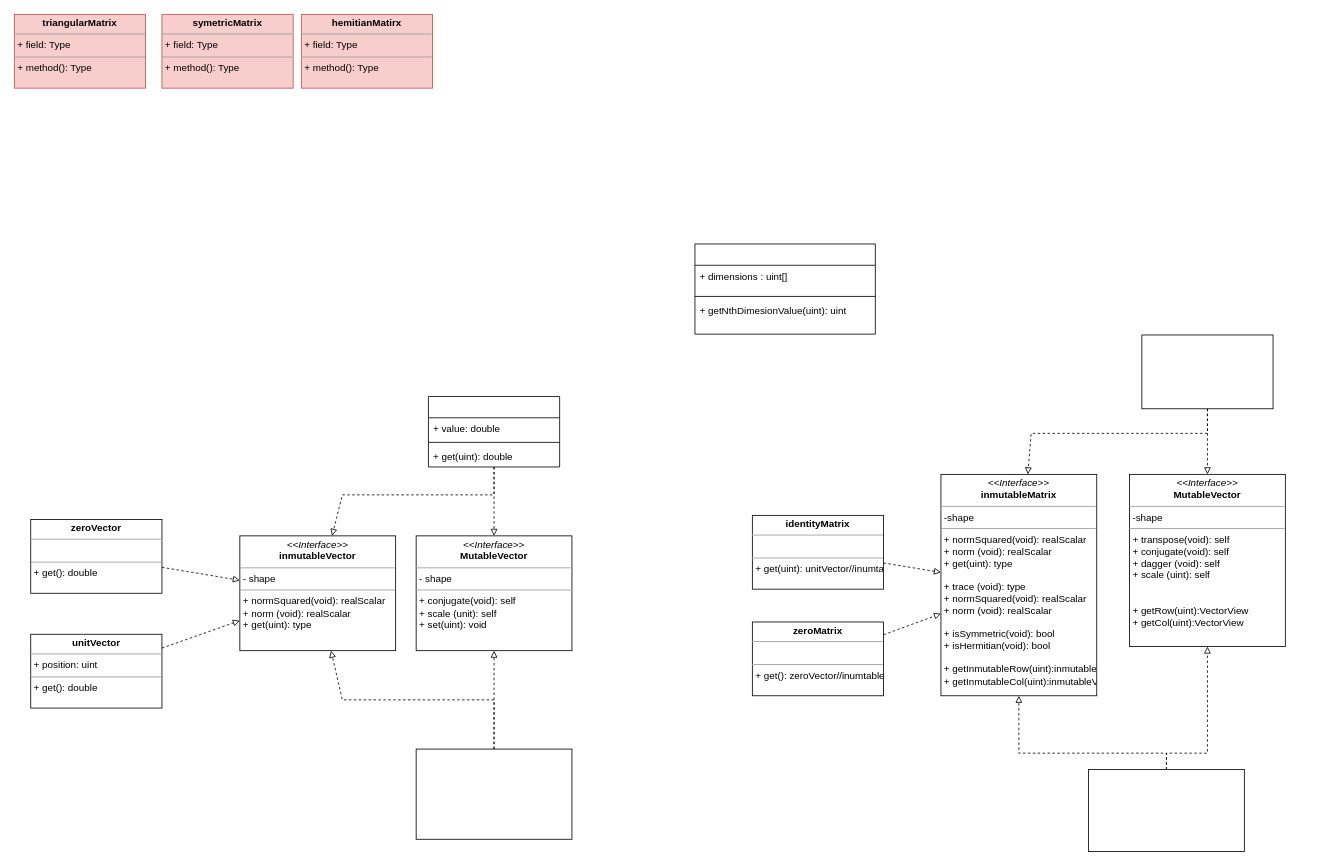
Some shapes in this 1330 by 866 pixel diagram are drawn without their labels. The box of each missing label's shape, as (x1, y1, x2, y2) in pixels:
Matrix data: type[]: (1088, 769, 1244, 852)
ScalarMatrix - value: type + get(unit): complexScalarVector//inde..: (1141, 334, 1273, 409)
scalarVector: (428, 396, 560, 467)
Shape: (694, 243, 875, 334)
Vector - adapteeMatrix: Matrix - data: type[]: (415, 748, 572, 839)
